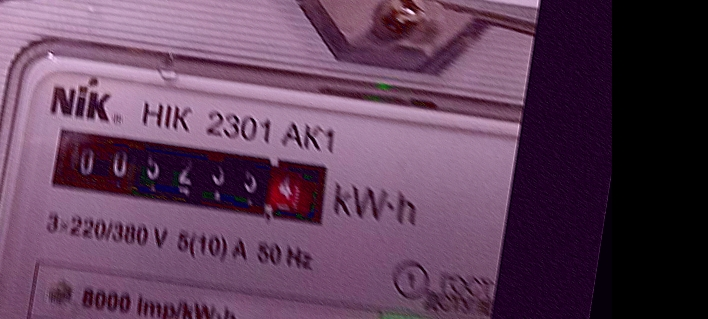0: (109, 143, 133, 179), (77, 142, 99, 176)
2: (174, 150, 200, 187)
3: (206, 153, 235, 190)
4: (274, 164, 301, 203)
5: (240, 157, 267, 196), (143, 147, 166, 182)
screen: (34, 108, 346, 240)
